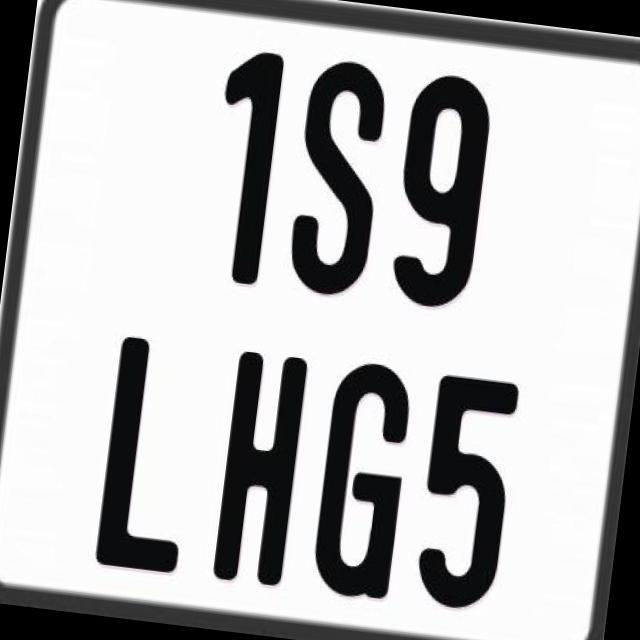1: (198, 47, 282, 291)
5: (408, 369, 518, 606)
9: (386, 69, 496, 311)
G: (307, 358, 415, 598)
H: (212, 346, 309, 582)
L: (89, 335, 200, 582)
S: (281, 58, 389, 304)
